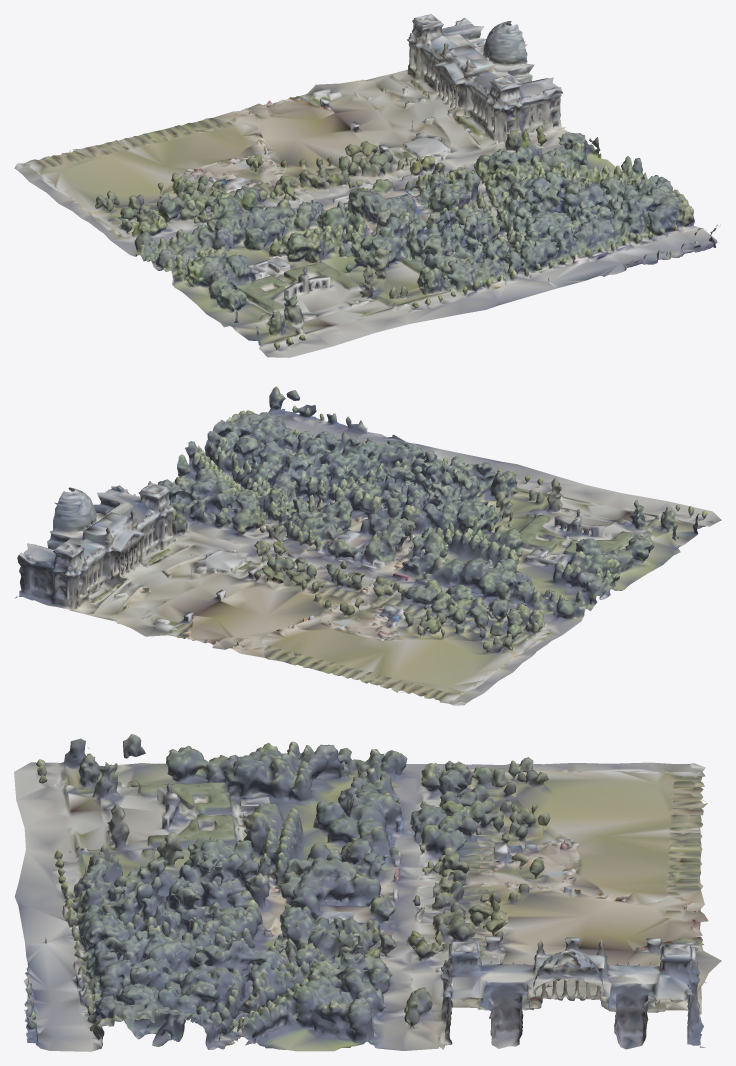
The model's file is tile-3894_58196.glb.
3 renders of one model, top to bottom at view 1: azimuth 30°, elevation 25°; view 2: azimuth 150°, elevation 25°; view 3: azimuth 270°, elevation 25°, orthographic. The views are drawn at different scales.
Visible parts, largest first — view 1: world; view 2: world; view 3: world.
Boxes of the visible parts, x1,y1,x2,y2 form: world: (14, 14, 720, 357); world: (14, 386, 721, 705); world: (14, 734, 721, 1051).
Bounding box in the file's own units: 370 × 57.29 × 379.
